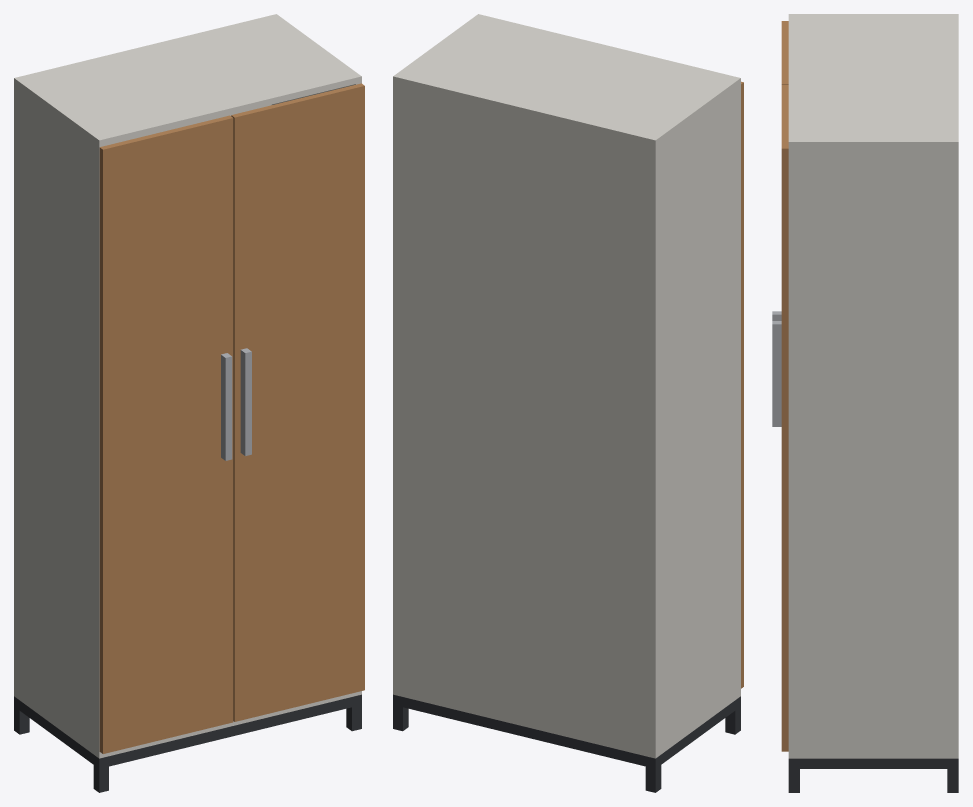
Rendered from armario.dae.
3 renders of one model, left to right at view 1: azimuth 30°, elevation 25°; view 2: azimuth 150°, elevation 25°; view 3: azimuth 270°, elevation 25°, orthographic.
Visible parts, largest first — view 1: Porta_MDF_18mm (×2), Lateral_MDF_18mm, Tampo_MDF_18mm, Metalon_30x30_-_Travessa_frontal, Puxador_perfil_300mm (×2), Base_MDF_18mm, Metalon_30x30_-_Travessa_lateral; view 2: Fundo_MDF_6mm, Lateral_MDF_18mm (×2), Tampo_MDF_18mm, Metalon_30x30_-_Travessa_traseira, Base_MDF_18mm, Porta_MDF_18mm, Metalon_30x30_-_Travessa_lateral; view 3: Lateral_MDF_18mm, Tampo_MDF_18mm, Porta_MDF_18mm (×2), Metalon_30x30_-_Travessa_lateral, Base_MDF_18mm, Puxador_perfil_300mm.
Boxes of the visible parts, x1,y1,x2,y2 form: Porta_MDF_18mm (×2): (99, 83, 364, 753); Lateral_MDF_18mm: (14, 84, 105, 752); Tampo_MDF_18mm: (14, 14, 361, 146); Metalon_30x30_-_Travessa_frontal: (93, 694, 361, 768); Puxador_perfil_300mm (×2): (221, 348, 251, 460); Base_MDF_18mm: (14, 690, 361, 758); Metalon_30x30_-_Travessa_lateral: (19, 700, 93, 764); Fundo_MDF_6mm: (399, 84, 649, 750); Lateral_MDF_18mm (×2): (393, 82, 740, 752); Tampo_MDF_18mm: (393, 14, 740, 146); Metalon_30x30_-_Travessa_traseira: (393, 694, 661, 768); Base_MDF_18mm: (393, 688, 740, 758); Porta_MDF_18mm: (741, 81, 743, 688); Metalon_30x30_-_Travessa_lateral: (661, 700, 735, 764); Lateral_MDF_18mm: (788, 148, 958, 752); Tampo_MDF_18mm: (788, 14, 958, 147); Porta_MDF_18mm (×2): (781, 21, 788, 751); Metalon_30x30_-_Travessa_lateral: (800, 758, 947, 768); Base_MDF_18mm: (788, 752, 958, 758); Puxador_perfil_300mm: (772, 321, 781, 426).
Bounding box in the file's own units: 31.5 × 19.41 × 74.8.
